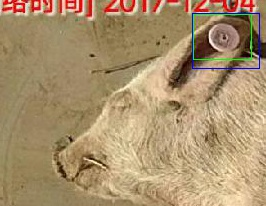text: (193, 14, 251, 59)
